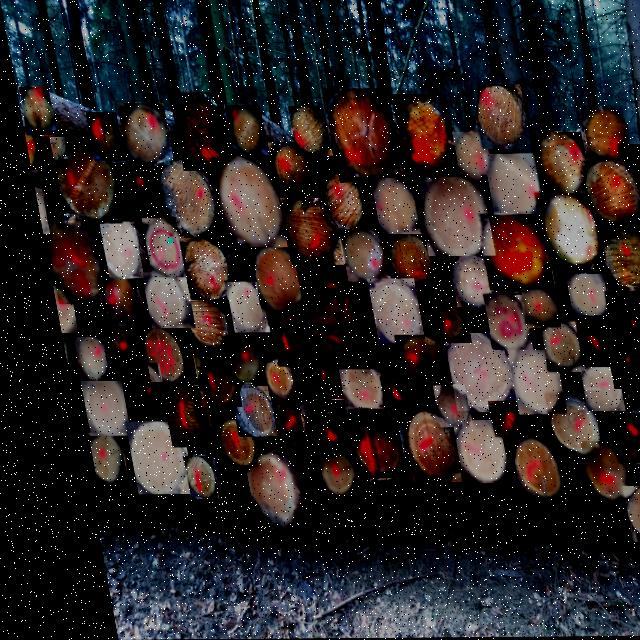wood-log: (294, 256, 364, 369), (324, 90, 393, 181), (208, 158, 274, 248), (416, 174, 480, 257), (39, 217, 98, 304), (474, 214, 541, 290), (50, 137, 109, 223), (436, 334, 498, 412), (394, 95, 451, 177), (532, 194, 592, 269), (114, 422, 173, 495), (154, 162, 210, 236), (173, 93, 224, 171), (577, 162, 637, 228), (230, 455, 281, 528), (390, 411, 441, 483), (276, 200, 331, 265), (481, 155, 536, 215), (337, 410, 385, 478), (359, 280, 410, 344), (244, 247, 293, 313), (498, 351, 548, 414), (406, 280, 455, 344), (530, 133, 581, 194), (440, 421, 488, 484), (473, 86, 521, 148), (385, 336, 434, 396), (534, 395, 583, 455), (497, 437, 544, 499), (118, 103, 164, 166), (593, 229, 640, 290), (149, 386, 194, 447), (175, 238, 219, 300), (567, 443, 609, 502), (136, 272, 179, 328), (316, 171, 356, 231), (111, 164, 153, 221), (137, 218, 177, 277), (367, 179, 409, 235), (95, 216, 131, 279), (184, 349, 223, 407), (70, 381, 111, 436), (581, 107, 623, 160), (174, 293, 214, 348), (477, 295, 517, 350), (596, 340, 640, 390), (112, 365, 151, 421), (381, 235, 424, 285), (327, 363, 369, 413), (218, 386, 259, 437), (442, 257, 483, 308), (334, 230, 374, 282), (266, 143, 305, 196), (132, 328, 170, 382), (599, 415, 640, 464), (261, 317, 301, 367), (597, 293, 638, 341), (530, 323, 569, 372), (223, 106, 260, 156), (202, 416, 238, 467), (608, 487, 640, 543), (219, 282, 254, 333), (565, 318, 604, 363), (213, 337, 251, 383), (95, 276, 129, 327), (287, 107, 323, 155), (568, 369, 607, 411), (557, 275, 596, 316), (75, 433, 106, 483), (84, 113, 116, 161), (19, 87, 50, 135), (303, 452, 336, 497), (294, 355, 327, 400), (450, 133, 485, 175), (368, 378, 401, 420), (421, 386, 454, 427), (92, 326, 123, 369), (62, 338, 94, 379), (168, 456, 198, 499), (513, 290, 546, 327), (302, 414, 331, 455), (260, 402, 287, 443), (42, 286, 64, 333), (475, 403, 504, 438), (614, 146, 640, 183), (251, 363, 278, 397), (628, 445, 640, 495), (20, 127, 33, 170), (28, 189, 39, 234)
